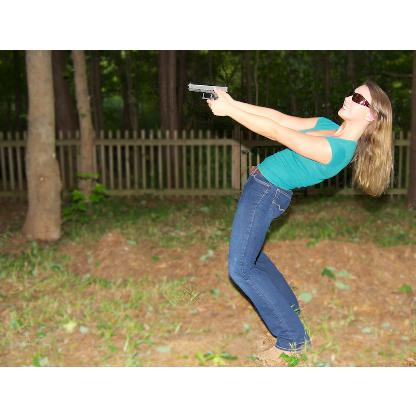gun: (186, 78, 230, 116)
